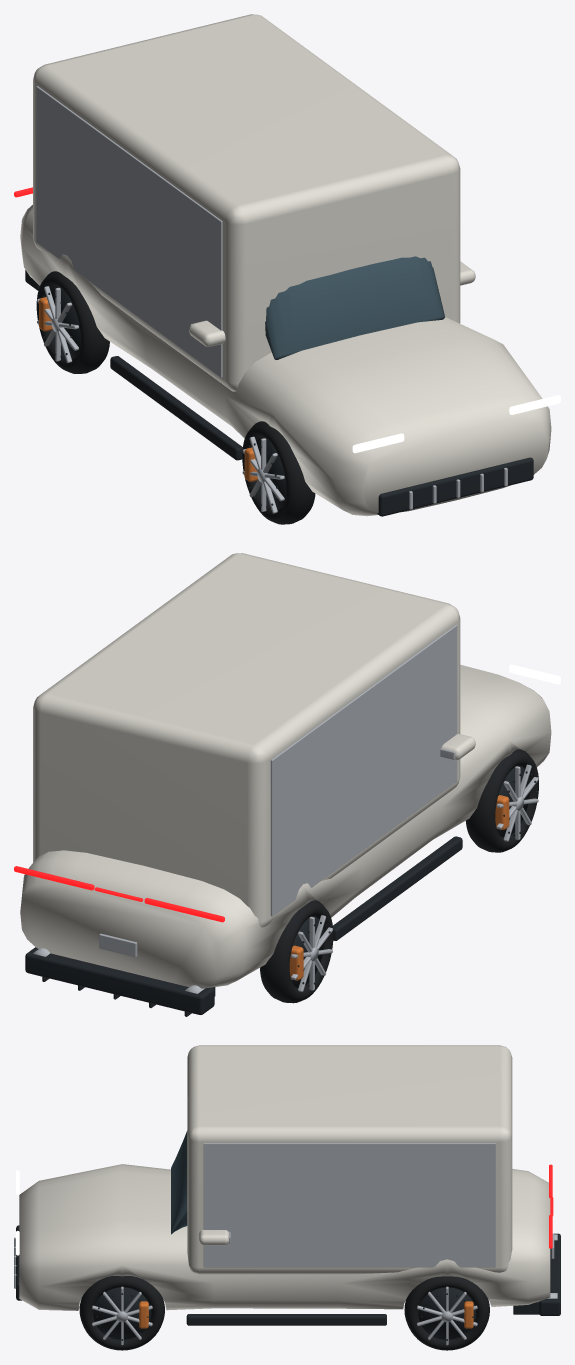
Rendered from traffic-van.glb.
The picture shows the model from 3 angles, top to bottom: view 1: azimuth 30°, elevation 25°; view 2: azimuth 150°, elevation 25°; view 3: azimuth 270°, elevation 25°; orthographic projection. The views are drawn at different scales.
Parts seen in each view (by area): view 1: Delivery cargo body, Sculpted coachwork.003, Cargo panel seam, Glazed cabin.003, Front lower intake.003, Performance tire.012, Performance tire.013, Side skirt.006, Wheel barrel.012, Wheel barrel.013, Mirror housing.006; view 2: Delivery cargo body, Sculpted coachwork.003, Cargo panel seam, Rear diffuser.003, Performance tire.012, Performance tire.013, Side skirt.006, Rear license plate.003; view 3: Delivery cargo body, Cargo panel seam.001, Sculpted coachwork.003, Performance tire.014, Performance tire.015, Side skirt.007, Wheel barrel.015, Wheel barrel.014, Glazed cabin.003, Rear diffuser.003, Mirror housing.007.
Boxes of the visible parts, x1,y1,x2,y2 form: Delivery cargo body: [33, 14, 460, 391]; Sculpted coachwork.003: [20, 205, 551, 516]; Cargo panel seam: [36, 86, 222, 377]; Glazed cabin.003: [265, 256, 445, 359]; Front lower intake.003: [377, 457, 533, 516]; Performance tire.012: [242, 421, 315, 524]; Performance tire.013: [36, 271, 109, 373]; Side skirt.006: [110, 356, 242, 460]; Wheel barrel.012: [254, 438, 285, 509]; Wheel barrel.013: [49, 287, 80, 358]; Mirror housing.006: [189, 320, 225, 346]; Delivery cargo body: [33, 553, 460, 927]; Sculpted coachwork.003: [20, 664, 551, 988]; Cargo panel seam: [270, 625, 457, 916]; Rear diffuser.003: [25, 947, 214, 1014]; Performance tire.012: [465, 749, 538, 852]; Performance tire.013: [260, 900, 333, 1003]; Side skirt.006: [333, 836, 462, 940]; Rear license plate.003: [99, 933, 137, 957]; Delivery cargo body: [187, 1045, 512, 1274]; Cargo panel seam.001: [203, 1143, 495, 1267]; Sculpted coachwork.003: [19, 1164, 550, 1310]; Performance tire.014: [79, 1275, 164, 1350]; Performance tire.015: [404, 1276, 489, 1350]; Side skirt.007: [186, 1314, 386, 1325]; Wheel barrel.015: [418, 1287, 476, 1339]; Wheel barrel.014: [93, 1287, 151, 1339]; Glazed cabin.003: [171, 1131, 187, 1234]; Rear diffuser.003: [539, 1233, 560, 1315]; Mirror housing.007: [199, 1229, 228, 1245].
Bounding box in the file's own units: 2.29 × 2.24 × 5.05.
